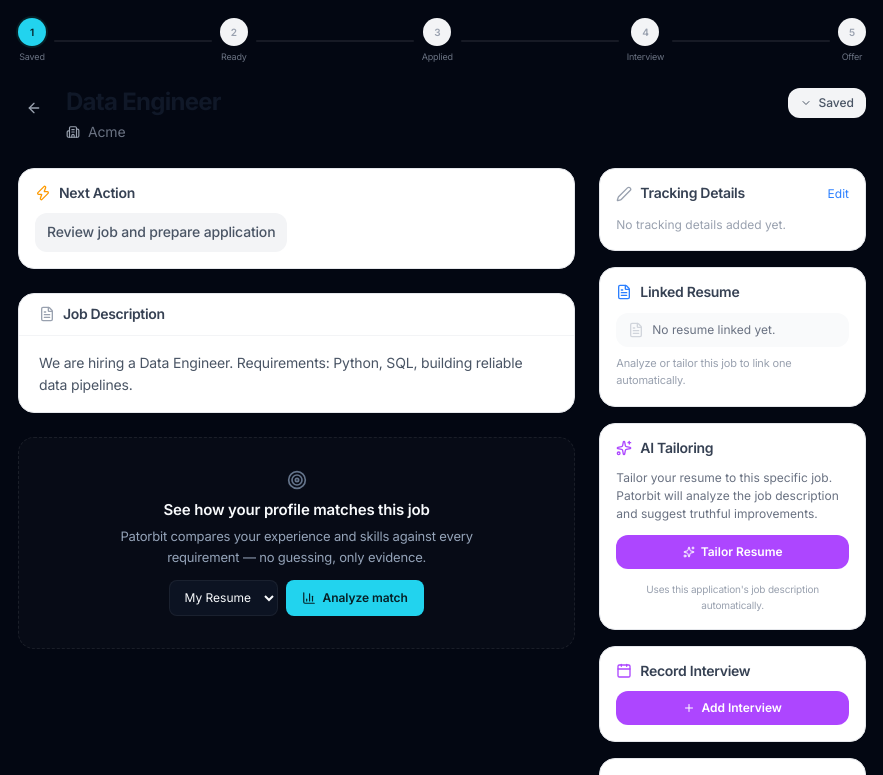
Test: ApplicationDetailClient — resume picker uses server-backed resumes › Test 2 — analyze: links the hydrated server resume, PATCH succeeds, match proceeds
Click the button "Analyze match" at (355, 598), box [286,580,424,616]
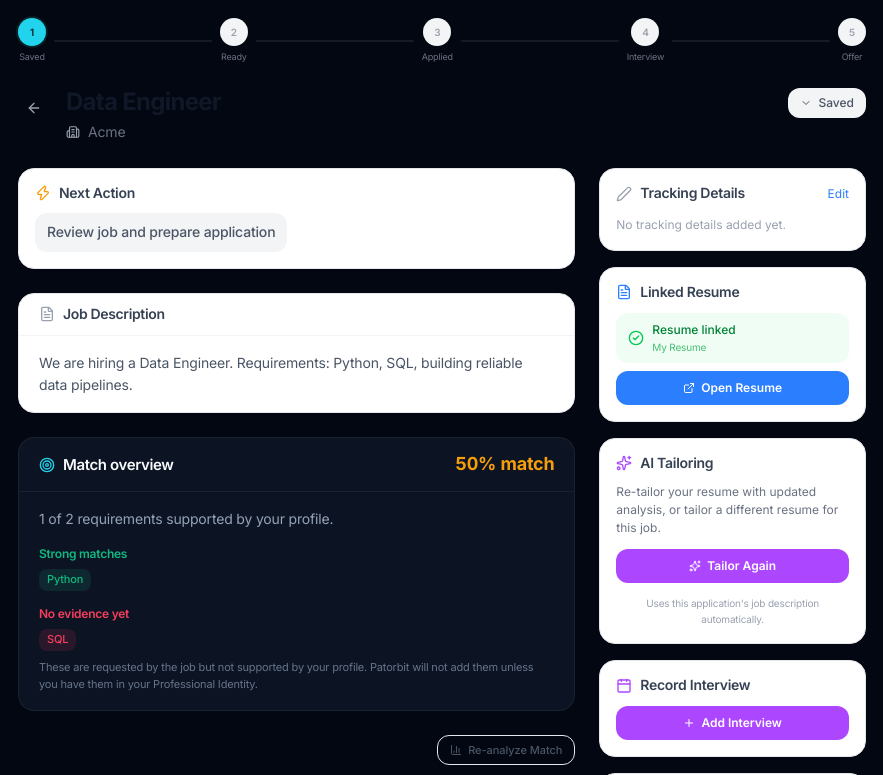
Result: the text "Match overview" is shown at [63,456,174,474]
